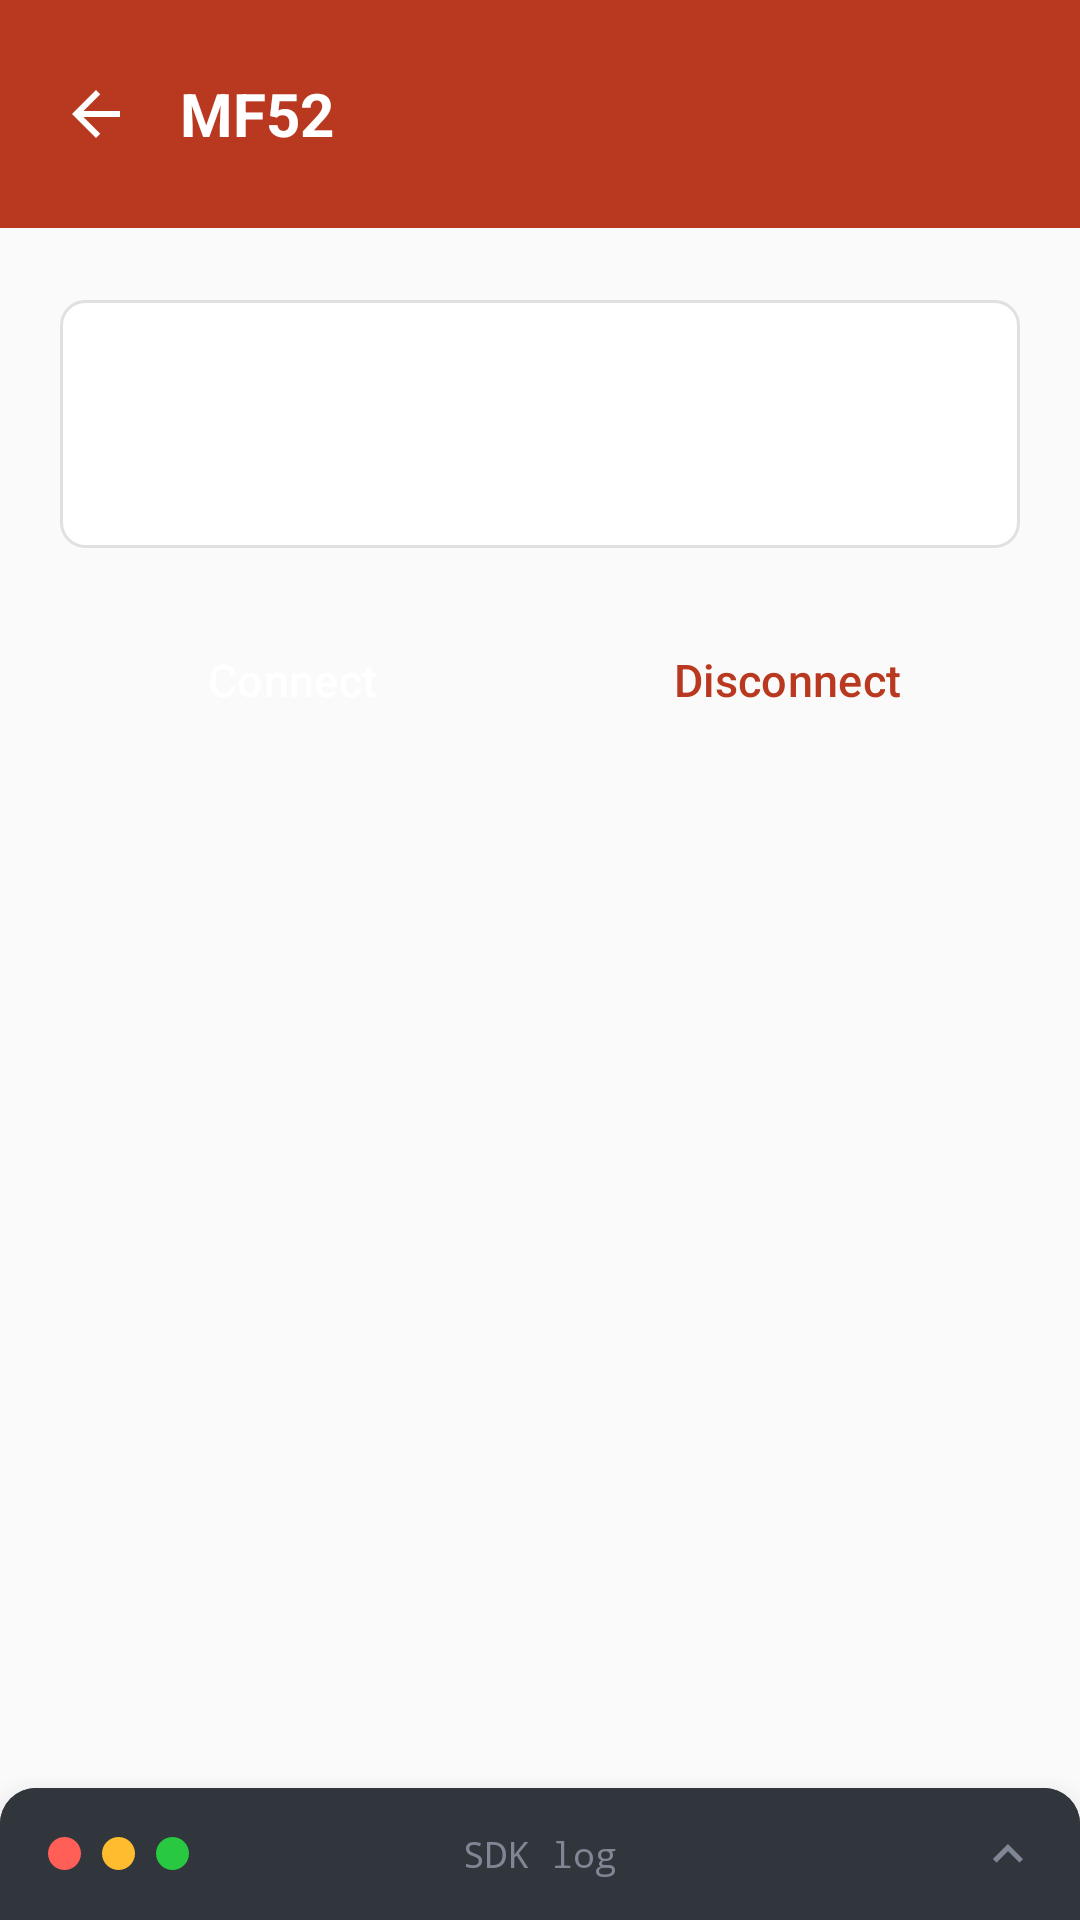

Named icons in this screenshot (1080px×1920px) and their centers, point (x, y):
Back: point (96, 114)
